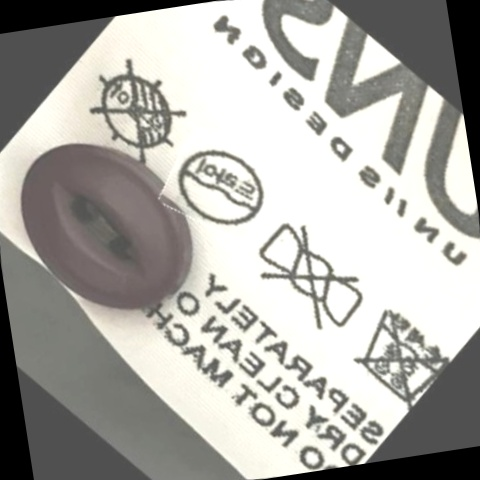DN_dry: (79, 52, 196, 171)
DN_wring: (245, 213, 377, 345)
dry_clean: (167, 133, 273, 243)
hand_wash: (342, 292, 454, 412)
